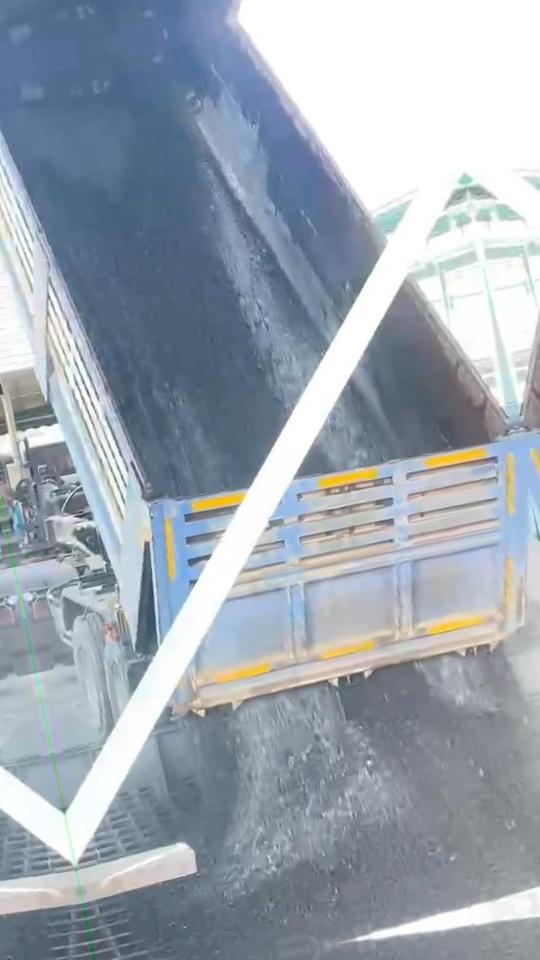gravel: (5, 97, 326, 496), (158, 651, 540, 960)
